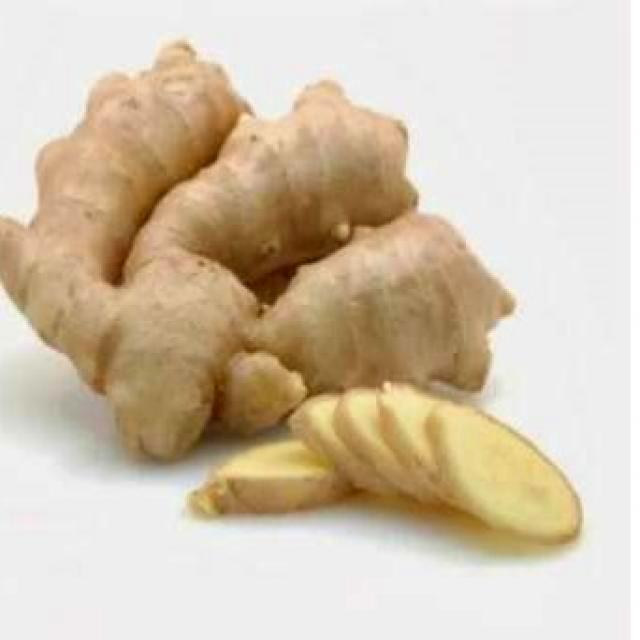ginger: (0, 43, 494, 429), (185, 361, 593, 557)
